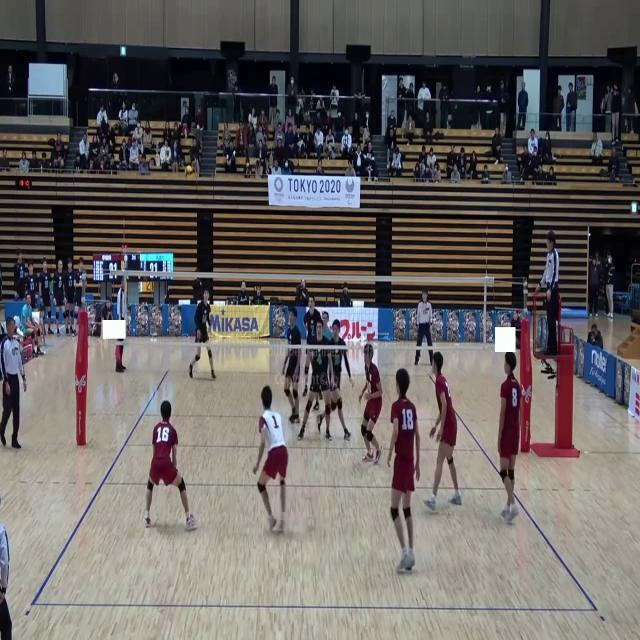volleyball: (184, 166, 194, 179)
